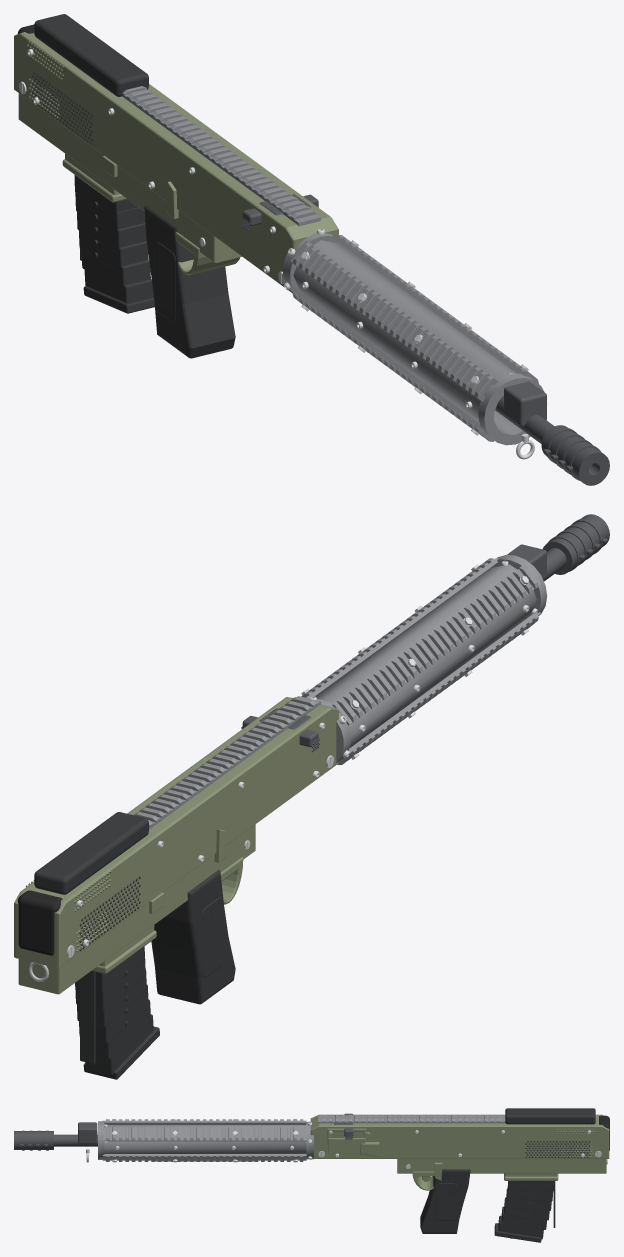
The model's file is tavor7.glb.
3 renders of one model, top to bottom at view 1: azimuth 30°, elevation 25°; view 2: azimuth 150°, elevation 25°; view 3: azimuth 270°, elevation 25°, orthographic. The views are drawn at different scales.
Visible parts, largest first — view 1: dmr-bullpup, magazine/polymerBlack, charge; view 2: dmr-bullpup, magazine/polymerBlack; view 3: dmr-bullpup, magazine/polymerBlack.
Boxes of the visible parts, x1=… form: dmr-bullpup: x1=14, y1=14, x2=609, y2=485; magazine/polymerBlack: x1=74, y1=175, x2=154, y2=313; charge: x1=242, y1=194, x2=318, y2=230; dmr-bullpup: x1=14, y1=514, x2=609, y2=1004; magazine/polymerBlack: x1=75, y1=946, x2=159, y2=1079; dmr-bullpup: x1=14, y1=1108, x2=609, y2=1233; magazine/polymerBlack: x1=494, y1=1181, x2=555, y2=1242.
Size of the model in its own units: 0.0682 by 0.2169 by 0.922.
